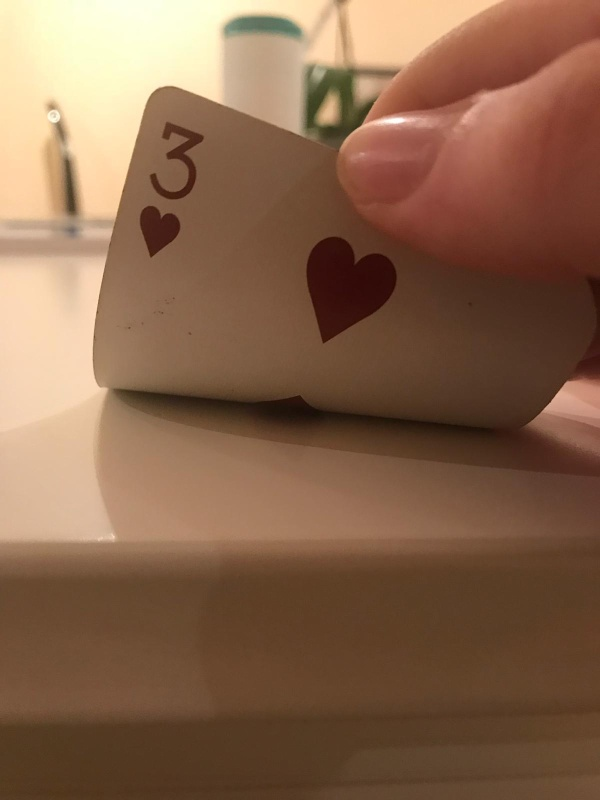H3: (137, 115, 203, 263)
